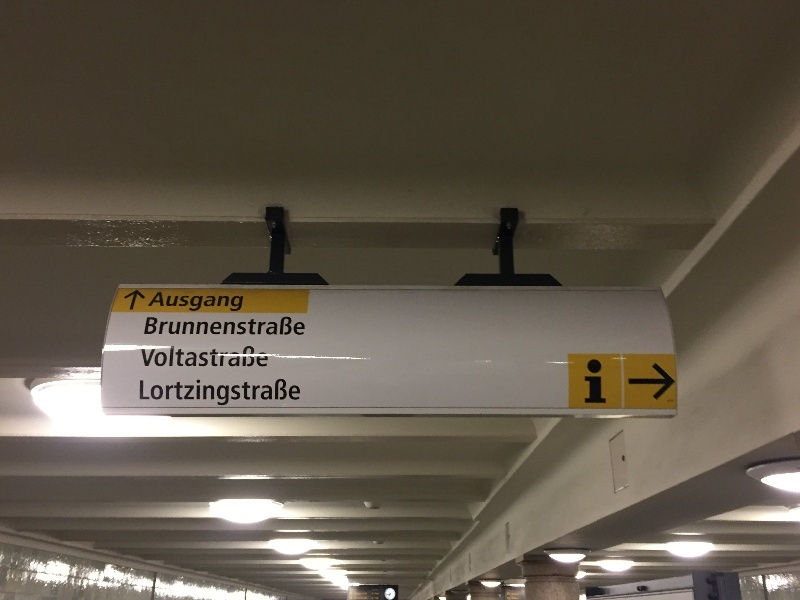text: (593, 359, 607, 404), (145, 379, 160, 413), (161, 379, 176, 413), (177, 379, 192, 413), (193, 379, 208, 413), (209, 379, 224, 413), (225, 379, 240, 413), (241, 379, 256, 413), (257, 379, 272, 413), (273, 379, 288, 413), (289, 379, 301, 413), (585, 359, 592, 404), (145, 346, 160, 367), (161, 346, 176, 367), (177, 346, 192, 367), (193, 346, 208, 367), (209, 346, 224, 367), (225, 346, 240, 367), (241, 346, 256, 367), (161, 292, 176, 312), (177, 292, 192, 312), (193, 292, 208, 312), (209, 292, 224, 312), (225, 292, 240, 312), (161, 316, 176, 335), (177, 316, 192, 335), (193, 316, 208, 335), (209, 316, 224, 335), (225, 316, 240, 335), (241, 316, 256, 335), (257, 316, 272, 335), (273, 316, 288, 335), (289, 316, 304, 335), (257, 346, 269, 367), (147, 316, 160, 335), (140, 379, 144, 413), (140, 346, 144, 367), (157, 292, 160, 312), (241, 292, 244, 312), (305, 316, 307, 335)
